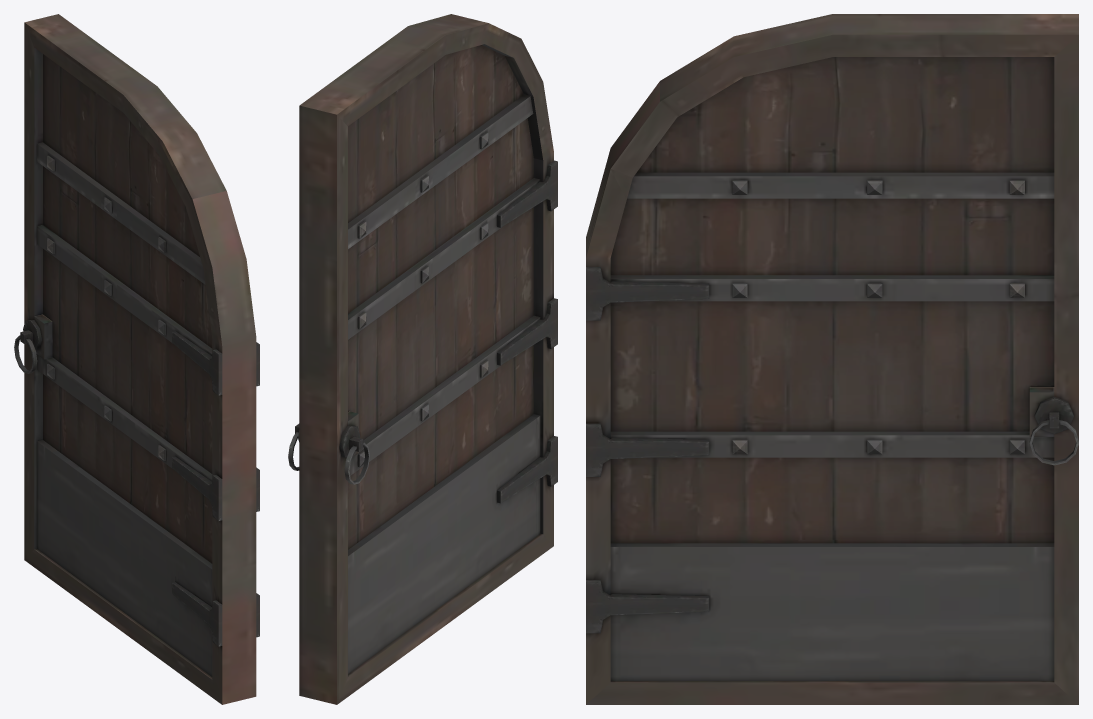
3 views of the same model, side by side, from view 1: azimuth 30°, elevation 25°; view 2: azimuth 150°, elevation 25°; view 3: azimuth 270°, elevation 25° (orthographic). The views are drawn at different scales.
Parts seen in each view (by area): view 1: body0_model0_lod0_mesh0; view 2: body0_model0_lod0_mesh0; view 3: body0_model0_lod0_mesh0.
Part boxes in pixels (x1,y1,x2,y2): body0_model0_lod0_mesh0: (14,14,259,704); body0_model0_lod0_mesh0: (288,14,557,704); body0_model0_lod0_mesh0: (586,14,1078,704).
Size of the model in its own units: 21.75 by 192 by 128.
1 material, 1 textured.
